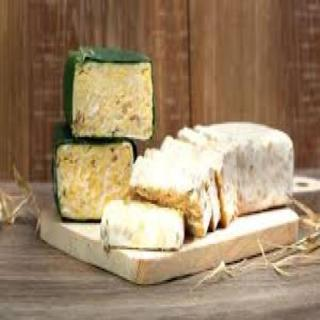Tempe: (60, 46, 157, 141), (50, 138, 140, 223)
